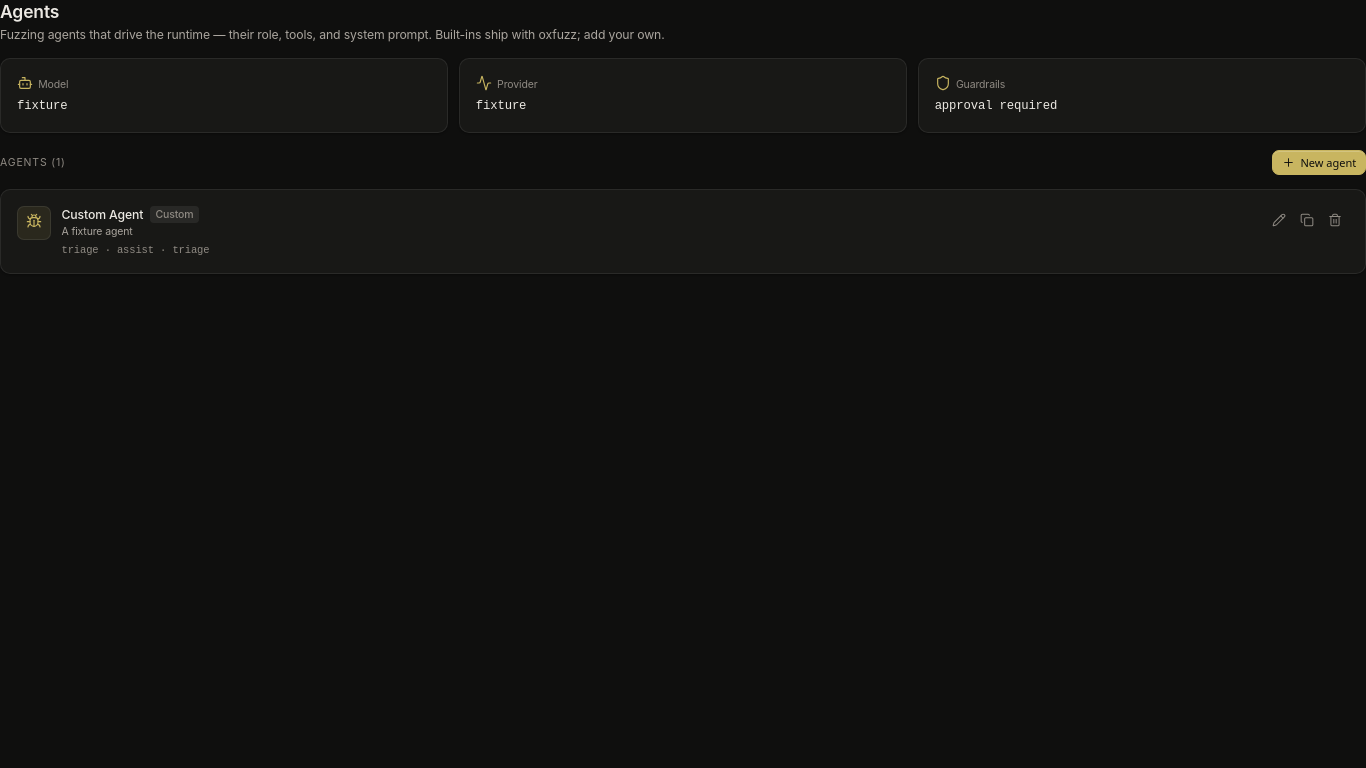
Scenario: prevents edits to submitted agents fields while saving
Click the button named "Edit": [1279, 220] box [1265, 206, 1293, 234]
(page scrolled)
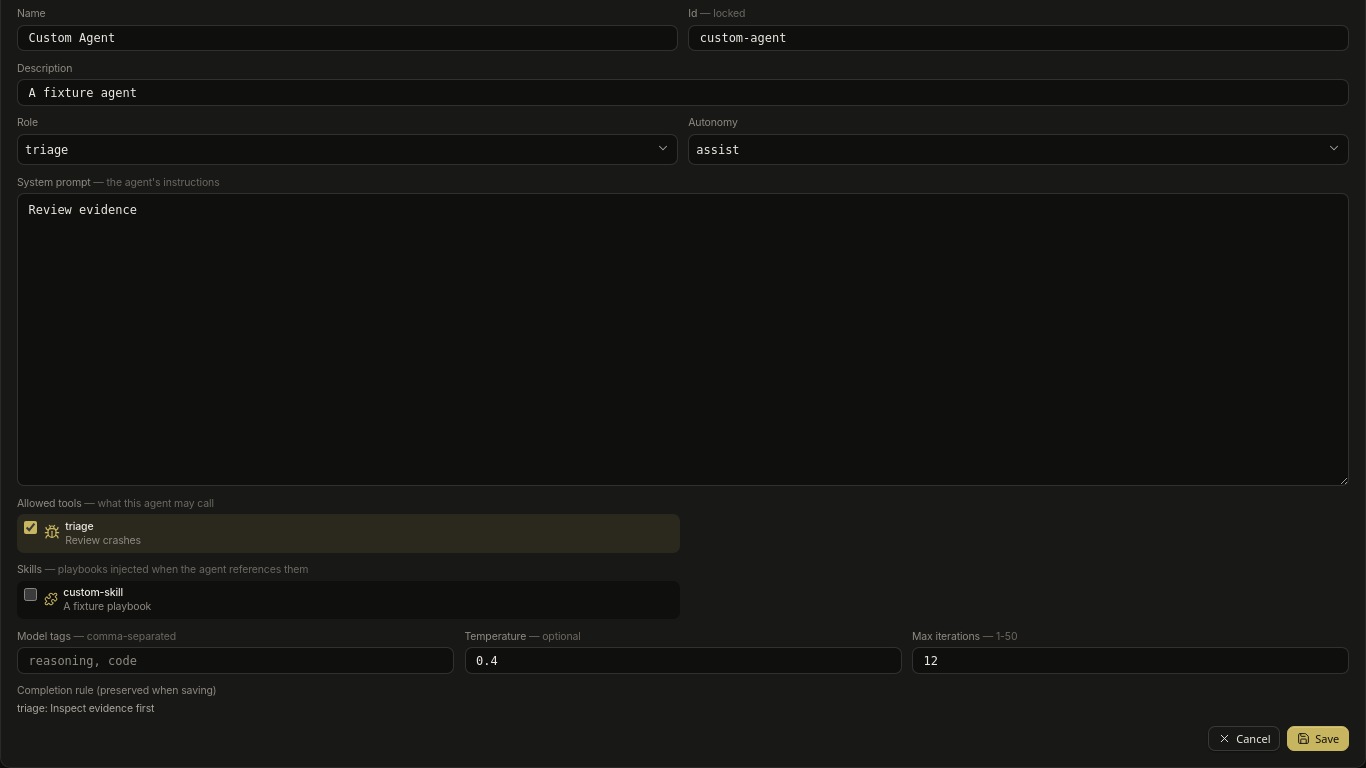
Check: the button "Save" is shown
Click the button "Save": [1318, 739] box [1287, 726, 1349, 751]
(page scrolled)
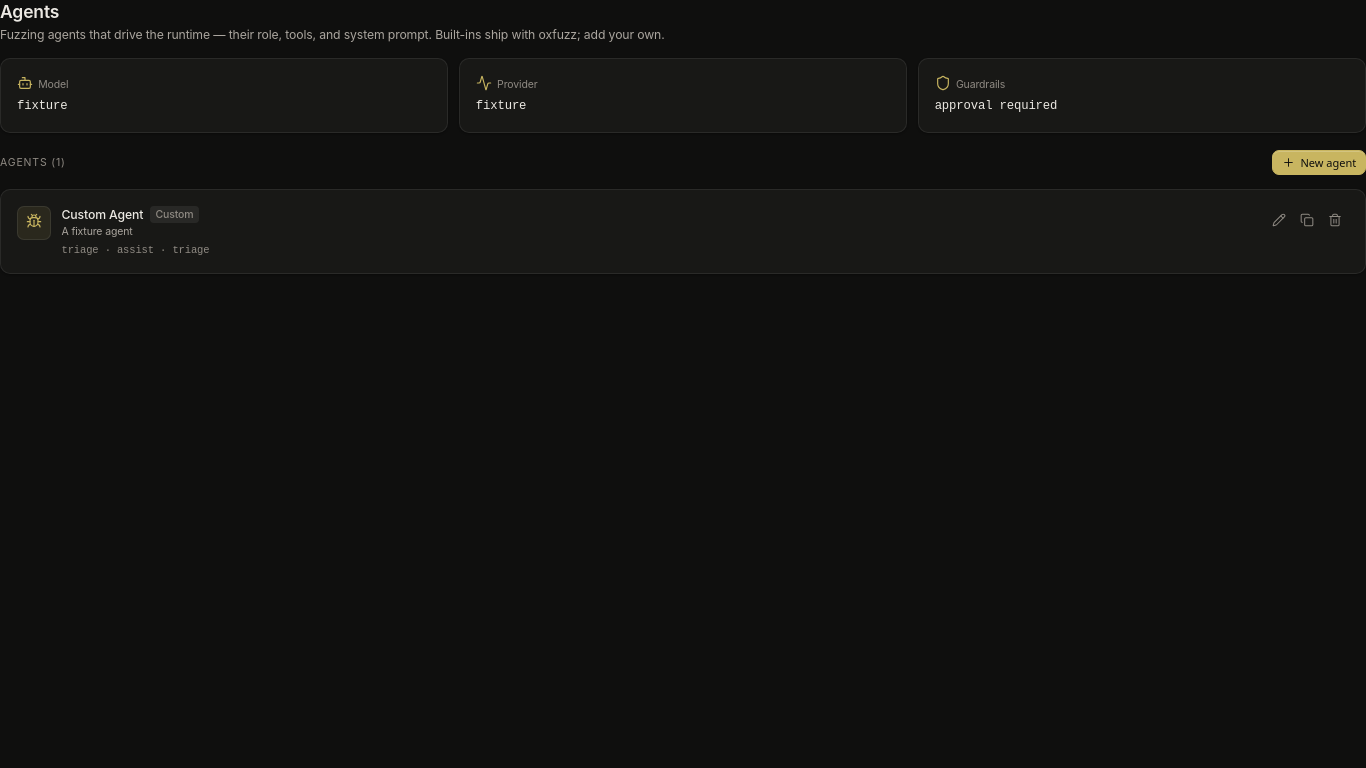
Check: the button named "Duplicate into a new agent" is enabled, box [1293, 206, 1321, 234]
